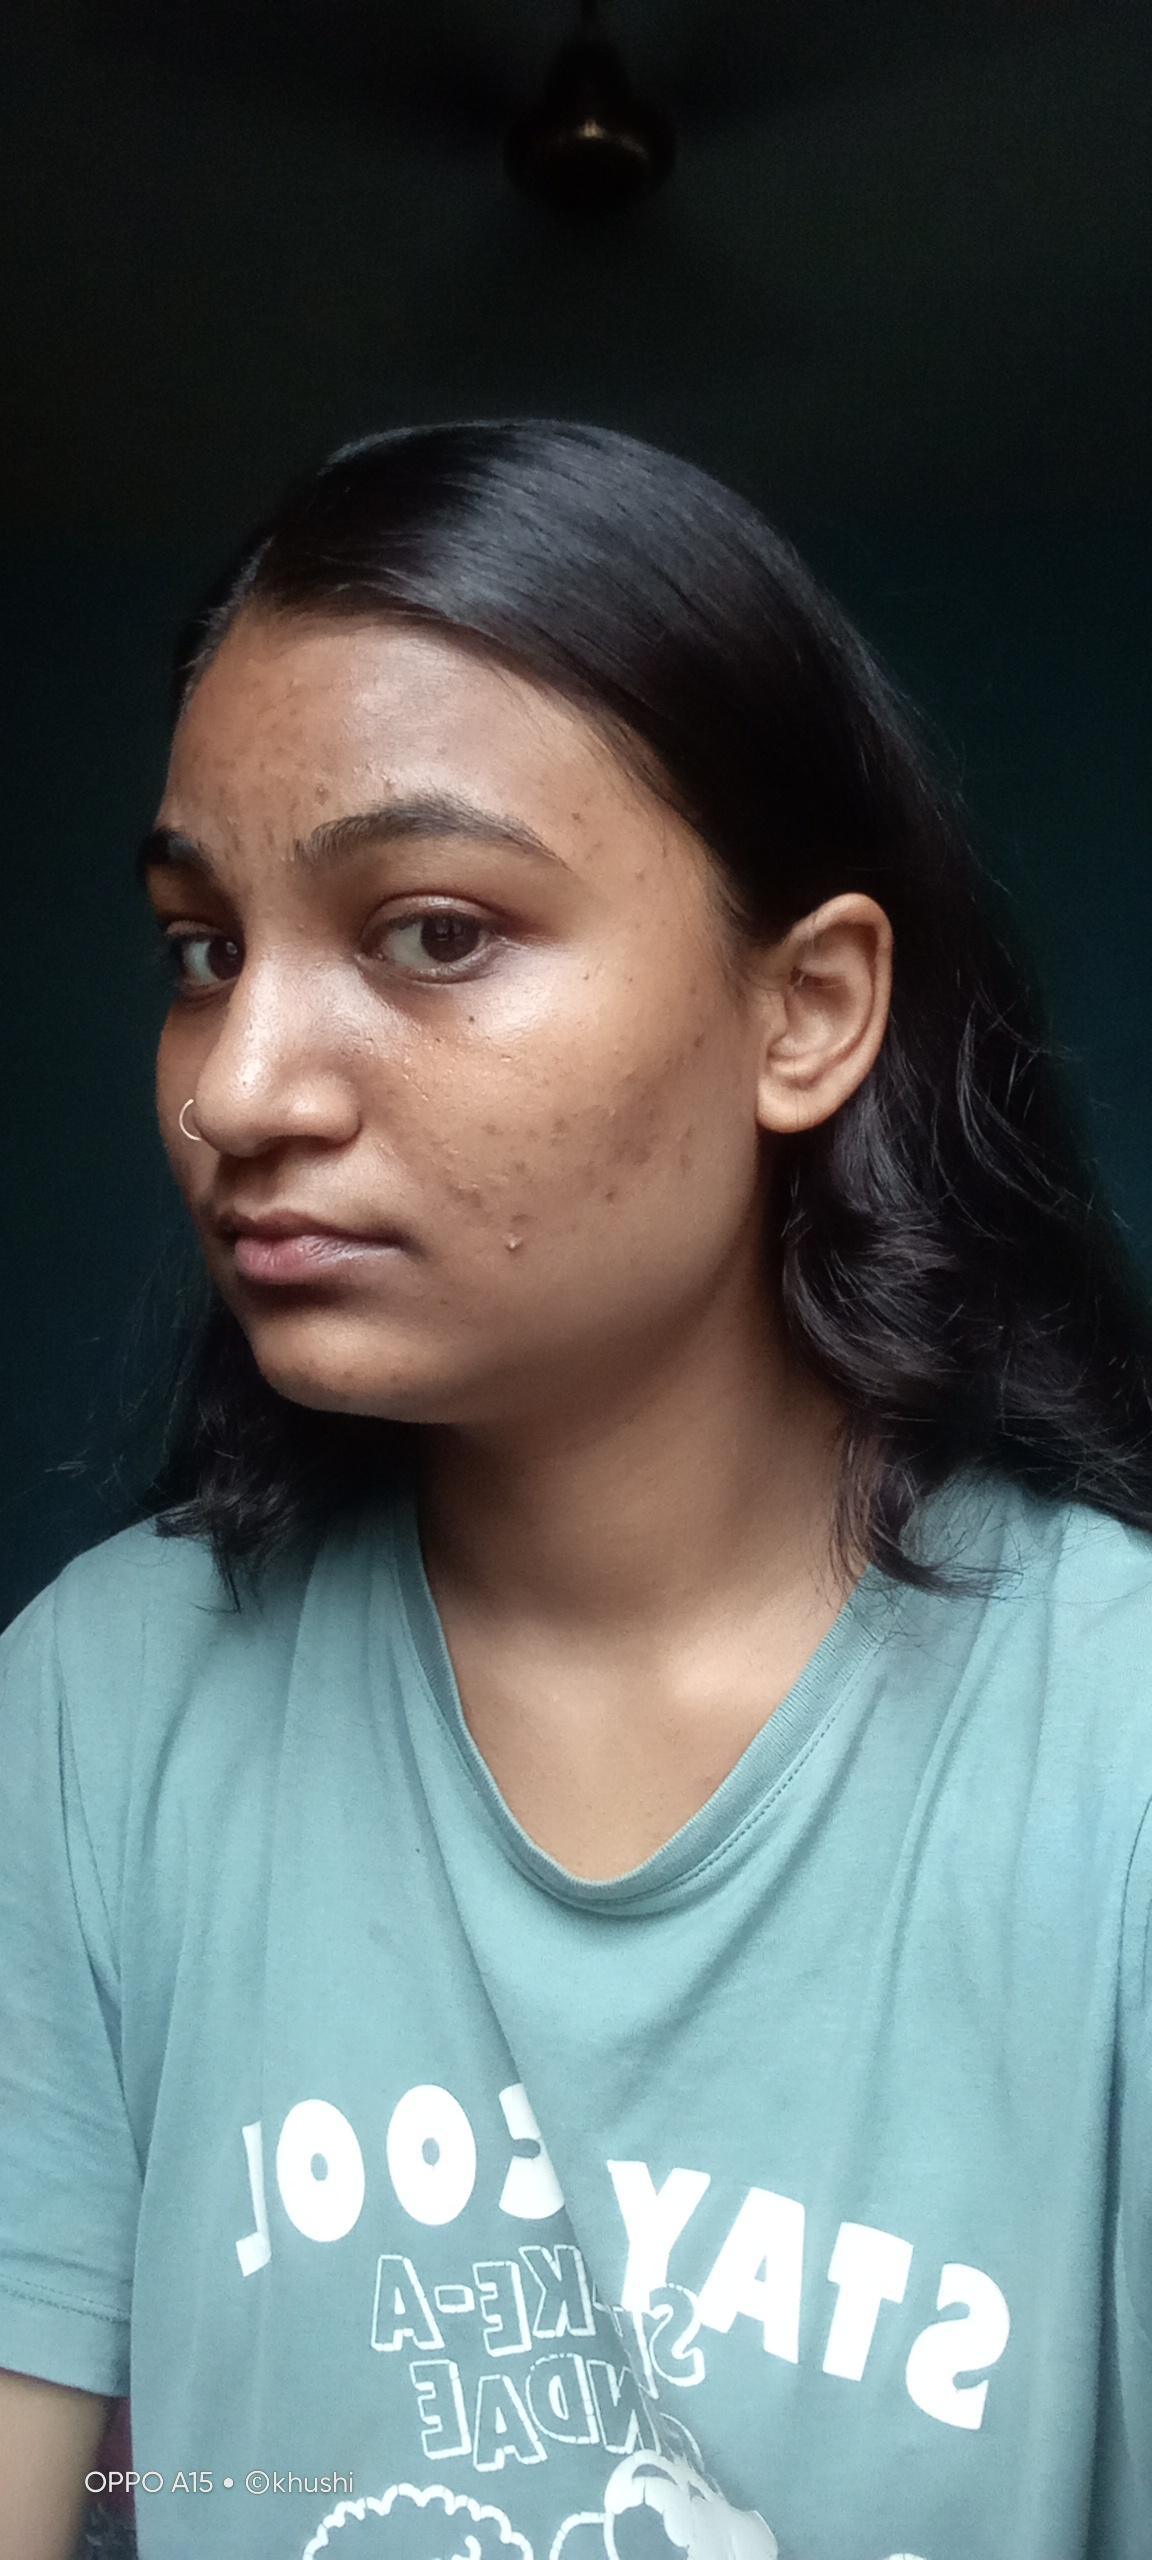Acne: (667, 1123, 700, 1177), (547, 1112, 576, 1148), (594, 1180, 625, 1210), (623, 1144, 658, 1171), (462, 1182, 498, 1207), (501, 1229, 529, 1260), (625, 860, 649, 891), (380, 767, 405, 798), (509, 1207, 540, 1229), (615, 1061, 643, 1082), (312, 777, 330, 810), (687, 1032, 711, 1055), (287, 699, 310, 723), (264, 818, 279, 856), (338, 1367, 366, 1386), (568, 807, 587, 833), (486, 1117, 507, 1140), (233, 833, 246, 869), (210, 754, 238, 771), (428, 738, 454, 754), (282, 793, 304, 813), (271, 738, 294, 756), (259, 754, 279, 774), (514, 1153, 527, 1180), (292, 919, 312, 936), (215, 780, 228, 803), (245, 653, 264, 668), (295, 753, 310, 772), (290, 673, 304, 689)
